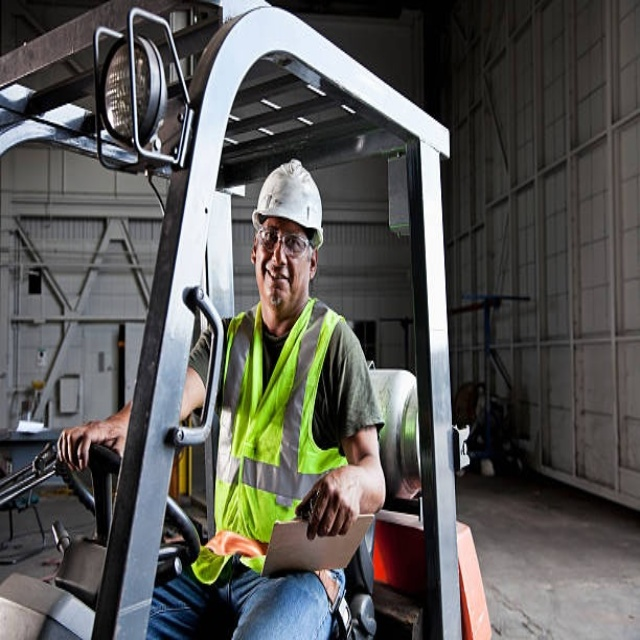Gafas: (257, 227, 313, 260)
Sin_guantes: (298, 467, 363, 538), (57, 427, 97, 473)
Sin_mascara: (264, 260, 291, 298)
